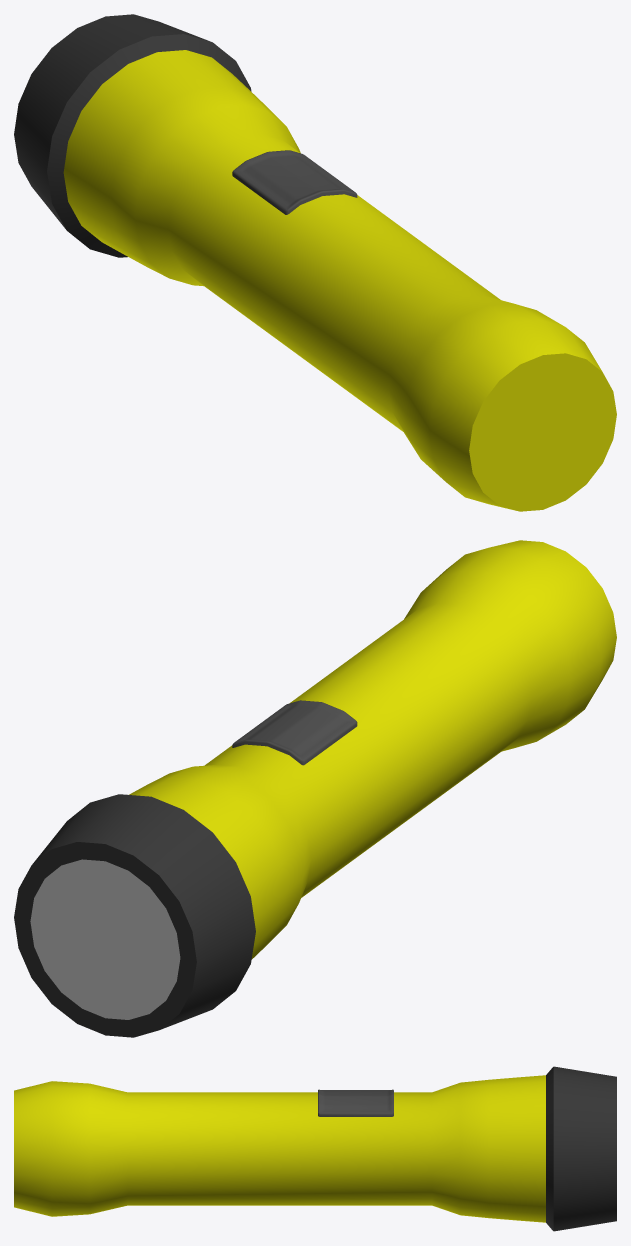
The model's file is torch.glb.
The picture shows the model from 3 angles, top to bottom: view 1: azimuth 30°, elevation 25°; view 2: azimuth 150°, elevation 25°; view 3: azimuth 270°, elevation 25°; orthographic projection. The views are drawn at different scales.
Parts seen in each view (by area): view 1: Body, Switch; view 2: Body, Switch; view 3: Body, Switch.
Part boxes in pixels (x1,y1,x2,y2): Body: [14, 14, 616, 511]; Switch: [232, 150, 357, 214]; Body: [14, 540, 616, 1037]; Switch: [232, 700, 357, 765]; Body: [14, 1066, 616, 1231]; Switch: [318, 1089, 393, 1116].
Size of the model in its own units: 0.0438 by 0.0438 by 0.1587.
